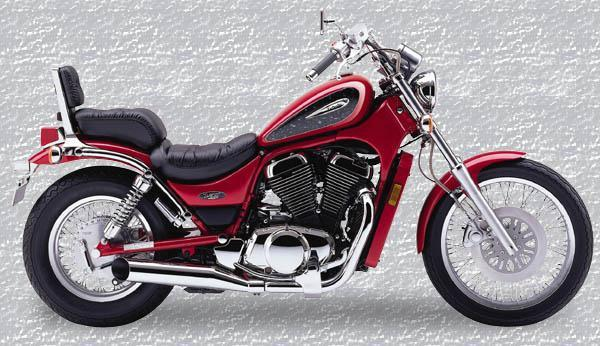Motorcycle: (7, 1, 596, 338)
